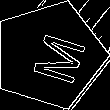M_W: (16, 25, 82, 85)
